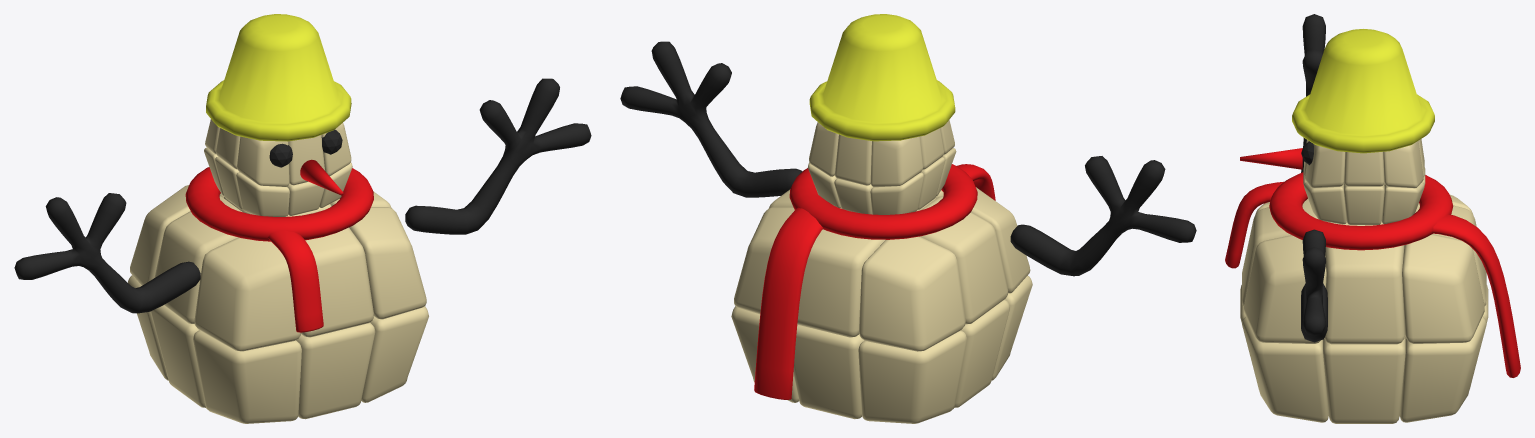
File: SnowMan.fbx
The picture shows the model from 3 angles, left to right: view 1: azimuth 30°, elevation 25°; view 2: azimuth 150°, elevation 25°; view 3: azimuth 270°, elevation 25°; orthographic projection. The views are drawn at different scales.
Parts seen in each view (by area): view 1: Cylinder, Cube.045, Cube.042, Vert.002, Vert.001, Circle.001, Cube.040, Cube.044, Cube.043, Cube.041, Cube.033, Cube.031 (+12 smaller); view 2: Cylinder, Cube.039, Cube.036, Vert.001, Vert.002, Circle.002, Cube.037, Circle.001, Cube.034, Cube.033, Cube.031, Cube.038 (+12 smaller); view 3: Cylinder, Cube.038, Cube.028, Cube.030, Circle.001, Cube.044, Cube.035, Cube.041, Circle.002, Vert.002, Circle.003, Cube.047 (+9 smaller).
Part boxes in pixels (box(x1,y1,x2,y2)): Cylinder: box(206, 14, 351, 141); Cube.045: box(194, 237, 300, 351); Cube.042: box(193, 330, 301, 423); Vert.002: box(405, 78, 591, 234); Vert.001: box(14, 193, 200, 313); Circle.001: box(185, 167, 373, 241); Cube.040: box(296, 322, 375, 419); Cube.044: box(349, 207, 426, 319); Cube.043: box(301, 211, 373, 337); Cube.041: box(361, 306, 428, 402); Cube.033: box(154, 196, 241, 323); Cube.031: box(151, 305, 205, 407); Cylinder: box(809, 14, 955, 141); Cube.039: box(859, 236, 965, 351); Cube.036: box(858, 330, 966, 423); Vert.001: box(1010, 156, 1196, 276); Vert.002: box(620, 41, 802, 197); Circle.002: box(754, 207, 823, 399); Cube.037: box(797, 229, 885, 337); Circle.001: box(789, 164, 977, 239); Cube.034: box(793, 324, 863, 419); Cube.033: box(920, 196, 1008, 324); Cube.031: box(954, 299, 1009, 407); Cube.038: box(734, 207, 794, 314); Cylinder: box(1292, 29, 1434, 153); Cube.038: box(1402, 234, 1484, 343); Cube.028: box(1324, 245, 1404, 344); Cube.030: box(1323, 335, 1405, 423); Circle.001: box(1269, 172, 1453, 250); Cube.044: box(1244, 235, 1326, 343); Cube.035: box(1399, 316, 1486, 422); Cube.041: box(1242, 317, 1328, 422); Circle.002: box(1432, 214, 1520, 377); Vert.002: box(1301, 229, 1327, 342); Circle.003: box(1225, 181, 1283, 268); Cube.047: box(1383, 141, 1423, 188).
Size of the model in its own units: 647 by 379 by 296.
